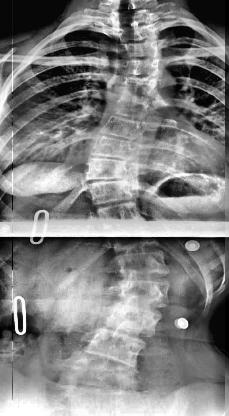Vertebrae: (77, 334, 151, 370), (98, 302, 164, 336), (108, 276, 172, 310), (106, 221, 168, 252), (110, 250, 174, 278), (94, 197, 156, 225), (84, 178, 144, 204), (80, 156, 128, 182), (109, 96, 164, 118), (82, 138, 136, 160), (94, 117, 148, 137), (116, 76, 162, 98), (119, 60, 163, 80), (118, 39, 162, 59), (113, 25, 160, 41)
